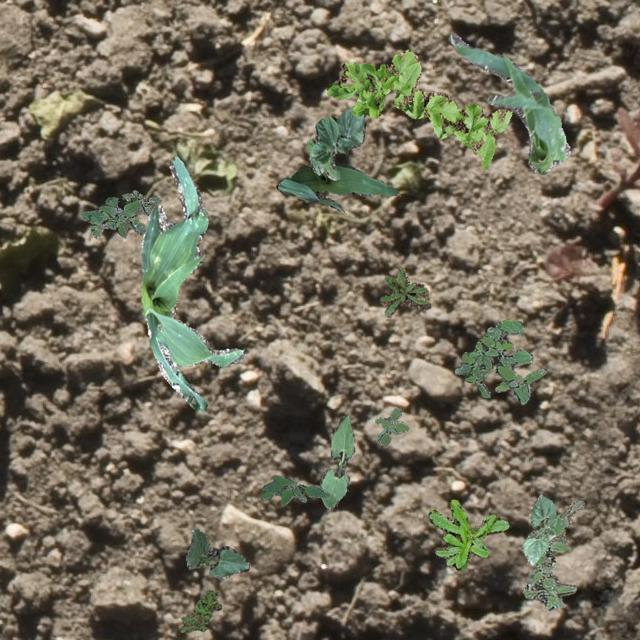crop: (140, 156, 242, 410), (448, 32, 570, 174), (276, 162, 398, 210), (304, 106, 364, 180), (318, 413, 354, 508), (184, 526, 248, 576), (520, 492, 556, 564)
weed: (326, 49, 512, 168), (454, 318, 546, 404), (522, 498, 584, 610), (428, 498, 508, 570), (80, 190, 160, 237), (380, 266, 430, 316), (260, 474, 328, 504), (178, 590, 220, 632), (374, 406, 408, 446)
